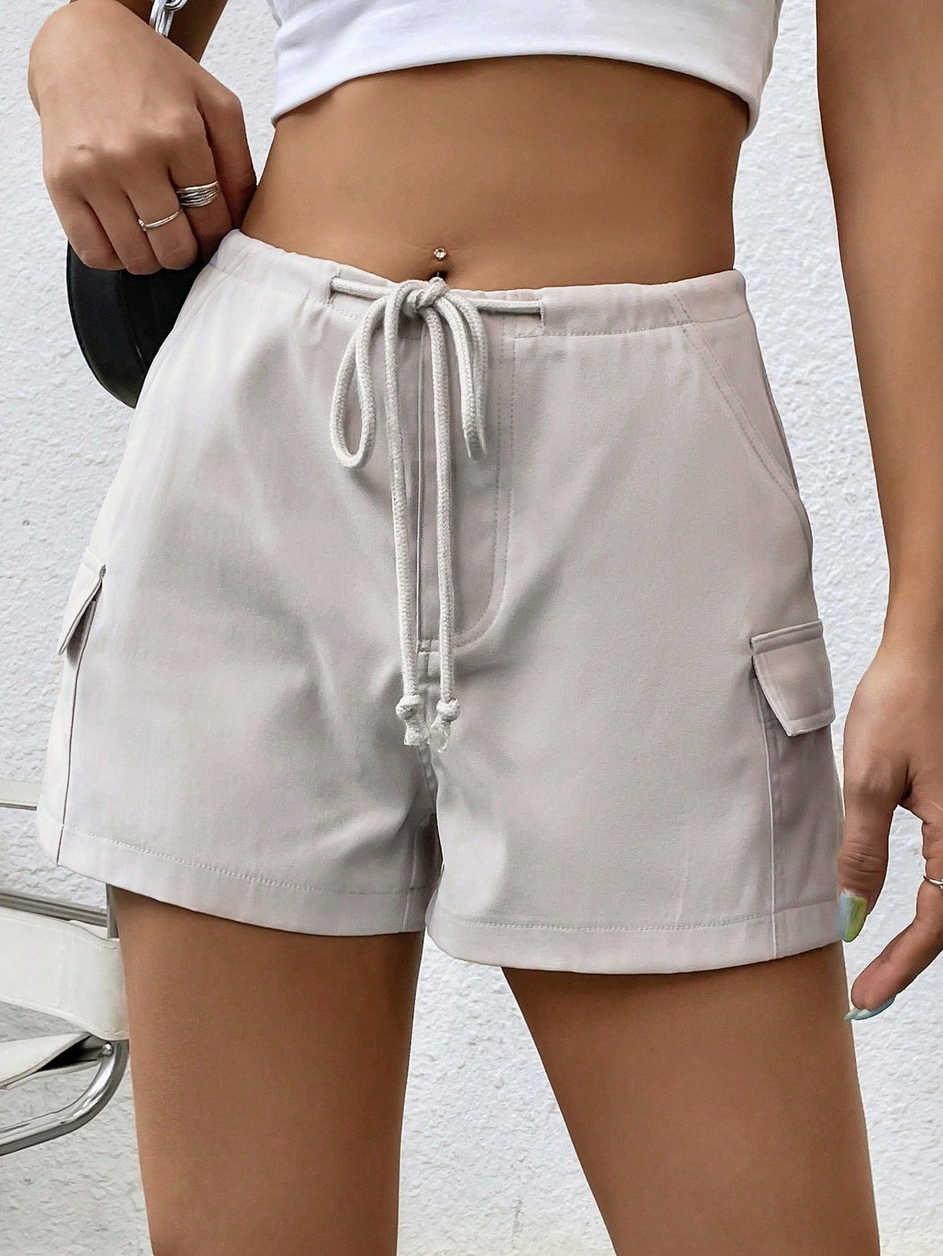Shorts: (25, 211, 865, 980)
vest: (244, 0, 787, 143)
